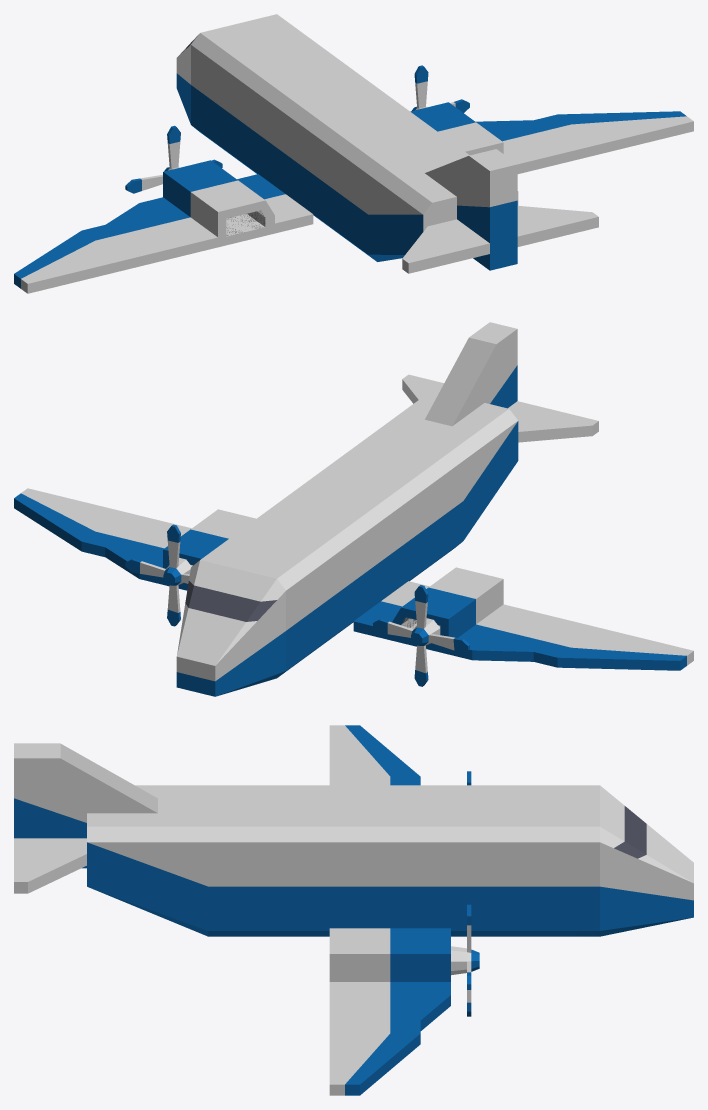
The picture shows the model from 3 angles, top to bottom: view 1: azimuth 30°, elevation 25°; view 2: azimuth 150°, elevation 25°; view 3: azimuth 270°, elevation 25°; orthographic projection. The views are drawn at different scales.
Bounding box in the file's own units: 7 × 1.8 × 5.6.
